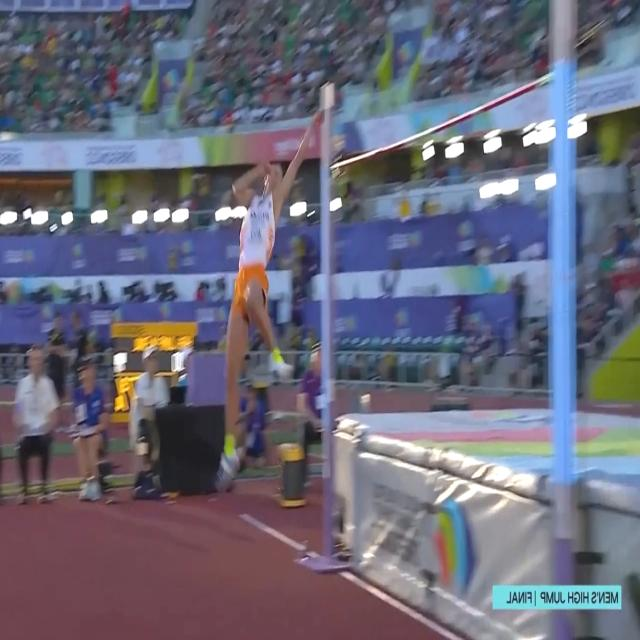jump: (213, 104, 326, 496)
